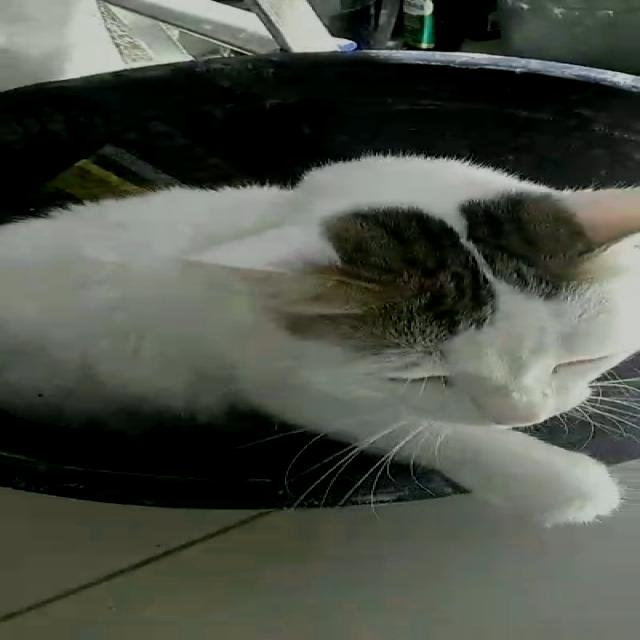Simba: (29, 149, 638, 513)
